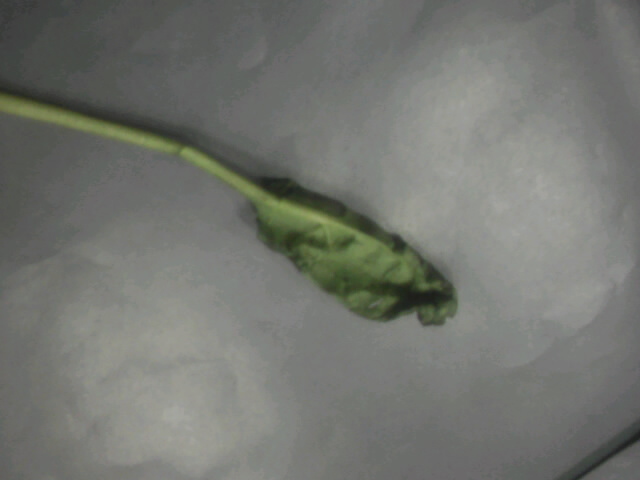yellow: (147, 146, 462, 342)
